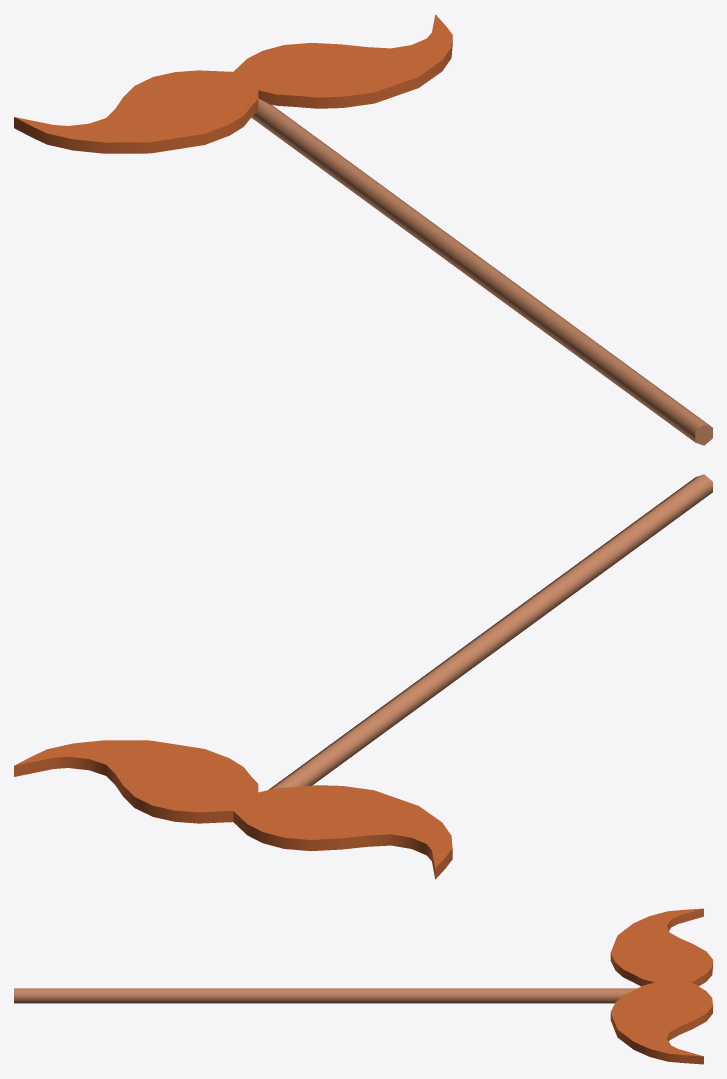
File: StickMaskMustache_01.fbx
The picture shows the model from 3 angles, top to bottom: view 1: azimuth 30°, elevation 25°; view 2: azimuth 150°, elevation 25°; view 3: azimuth 270°, elevation 25°; orthographic projection. The views are drawn at different scales.
Visible parts, largest first — view 1: StickMaskMustache_01; view 2: StickMaskMustache_01; view 3: StickMaskMustache_01.
Part boxes in pixels (x1=…): StickMaskMustache_01: x1=14, y1=14, x2=712, y2=445; StickMaskMustache_01: x1=14, y1=474, x2=712, y2=879; StickMaskMustache_01: x1=14, y1=908, x2=712, y2=1064.
Bounding box in the file's own units: 0.2984 × 0.0198 × 0.5958.
